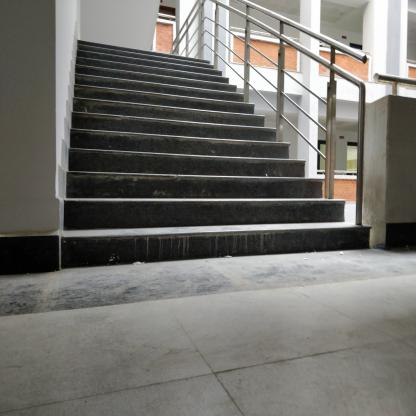stairs: (78, 59, 212, 275)
